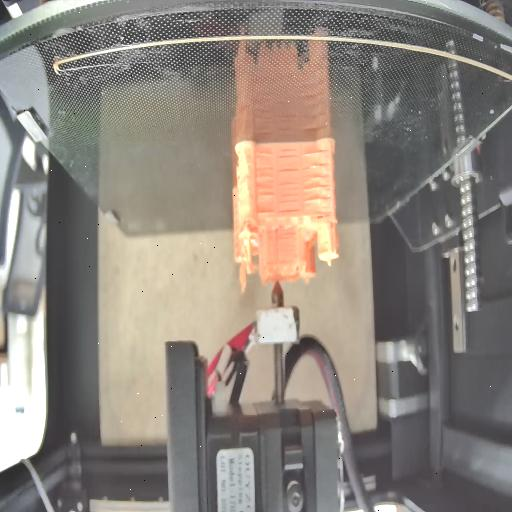cracks: (302, 152, 331, 202), (254, 150, 276, 198), (278, 182, 302, 214), (276, 149, 299, 177), (312, 214, 324, 224), (256, 208, 274, 214)
